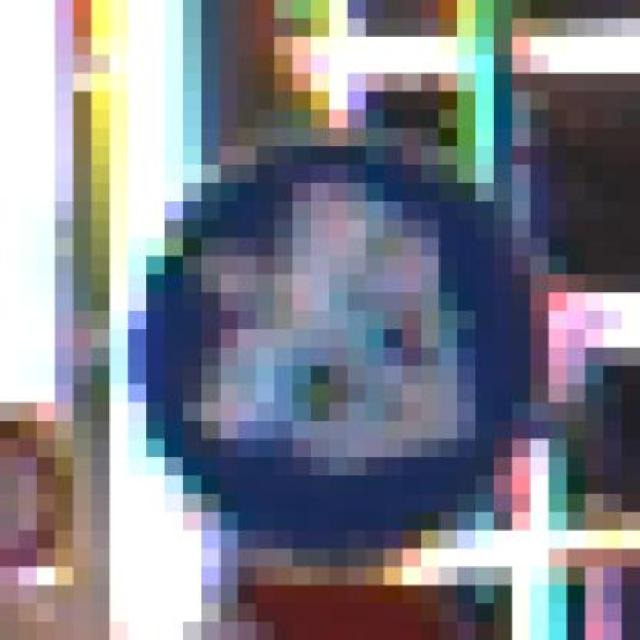Keep-Right: (110, 128, 567, 568)
